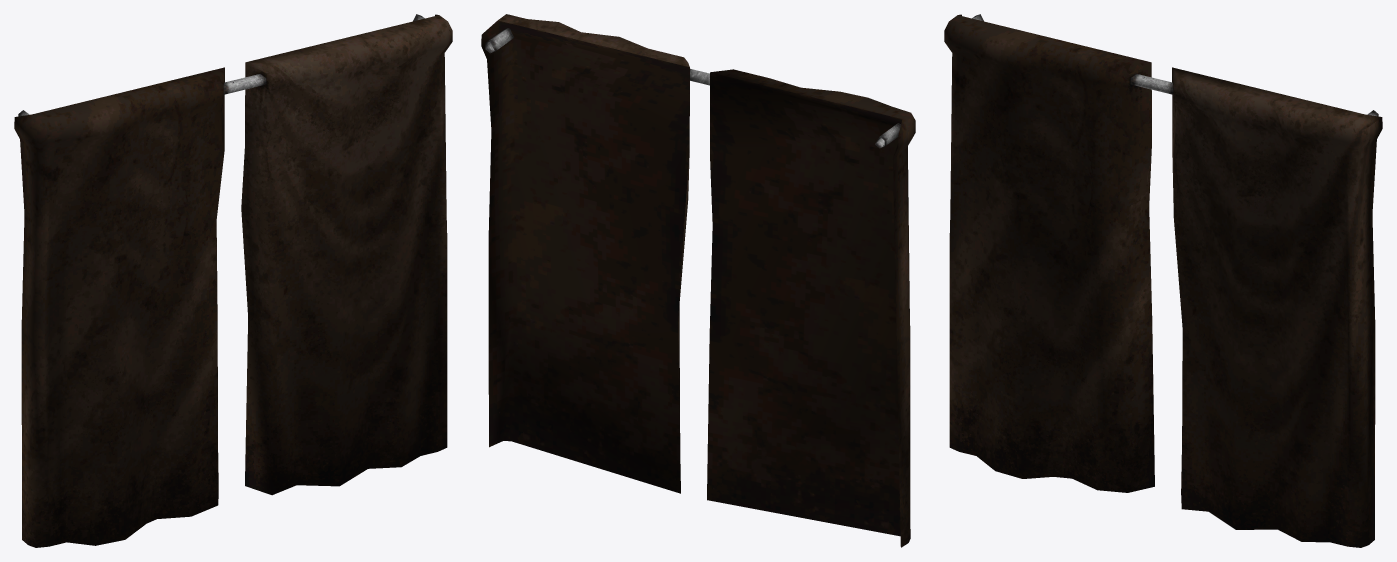
The model's file is curtain05_closed.dae.
3 renders of one model, left to right at view 1: azimuth 30°, elevation 25°; view 2: azimuth 150°, elevation 25°; view 3: azimuth 330°, elevation 25°, orthographic.
Parts seen in each view (by area): view 1: curtain01_closed; view 2: curtain01_closed; view 3: curtain01_closed.
Boxes of the visible parts, x1,y1,x2,y2 form: curtain01_closed: [14, 14, 452, 547]; curtain01_closed: [481, 14, 915, 547]; curtain01_closed: [944, 14, 1382, 547].
Size of the model in its own units: 3.74 by 3.68 by 0.508.
